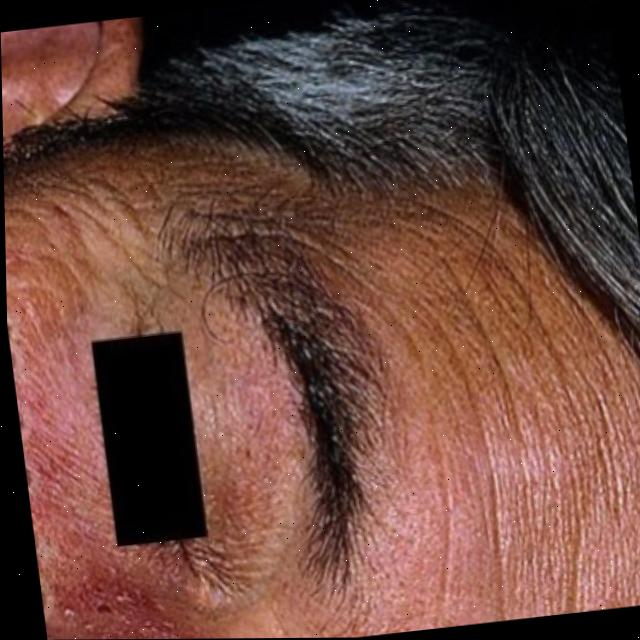Rosacea: (64, 584, 179, 640)
